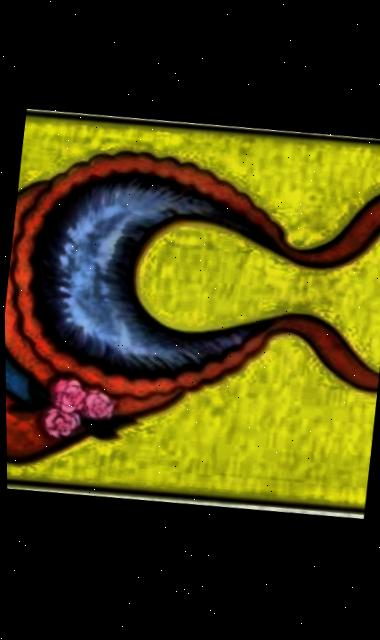El Gorrito: (1, 97, 380, 524)
